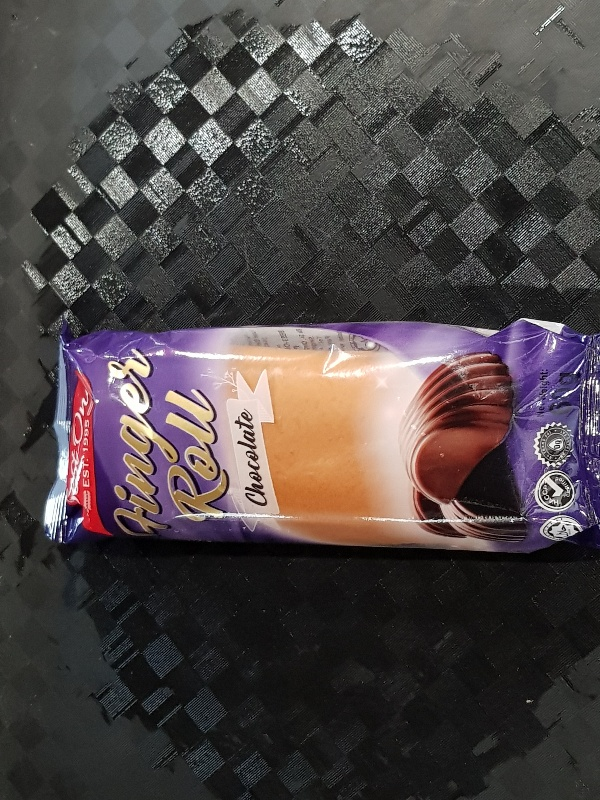Tinges Roll Chocolate: (41, 317, 600, 557)
